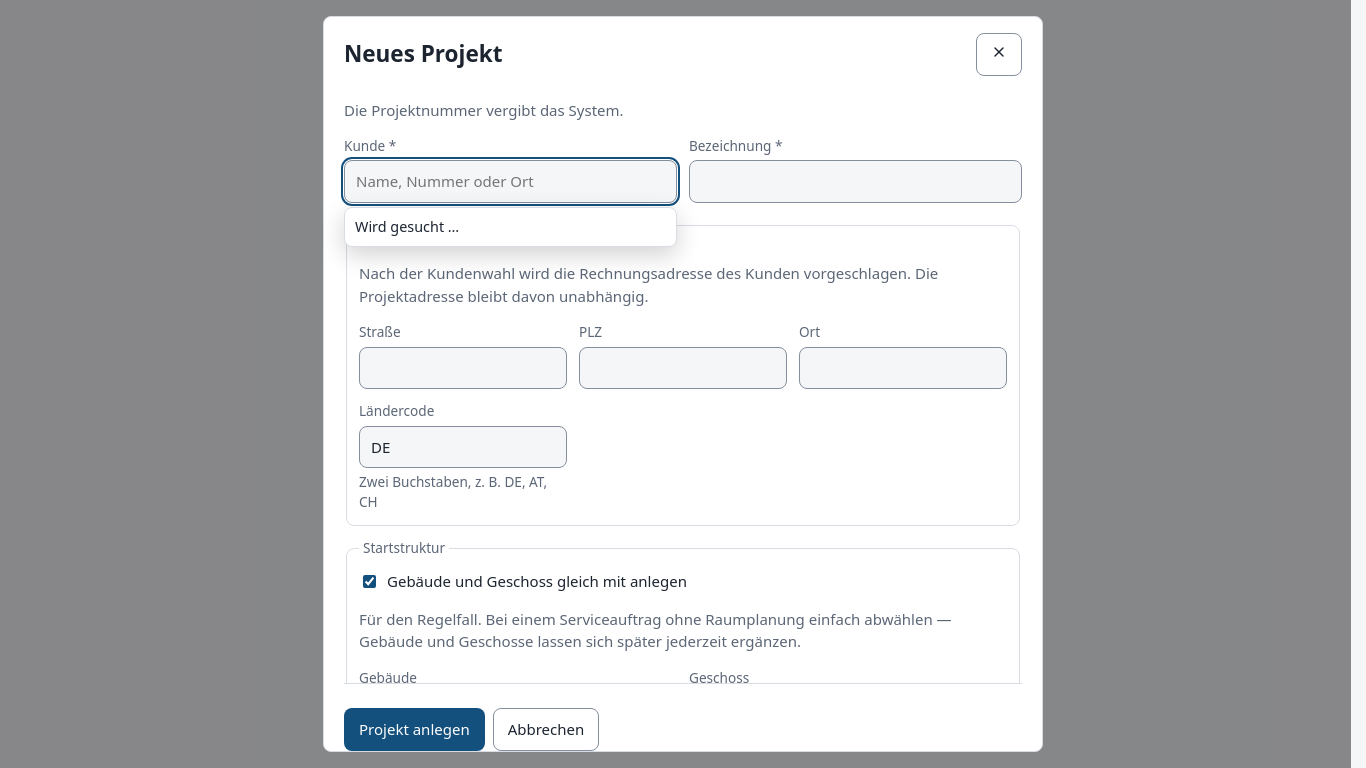
Test: Projektanlage im Dialog › bietet die gefundenen Kunden zur Auswahl an
Focus the dropdown labelled "Kunde *" at (510, 182), box [344,160,677,203]
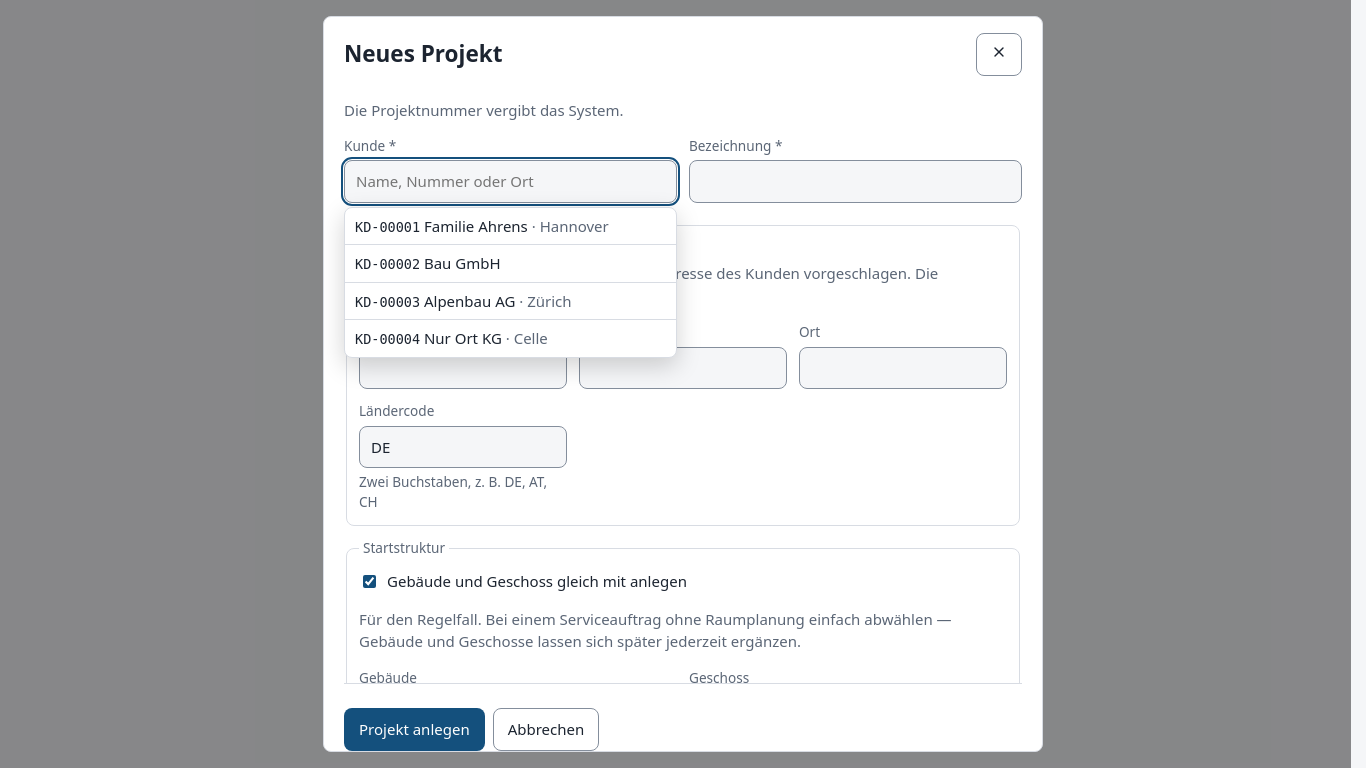
expect the option "KD-00001 Familie Ahrens · Hannover" is shown: met, box [345,208,676,245]
expect the option "KD-00002 Bau GmbH" is shown: met, box [345,245,676,283]
